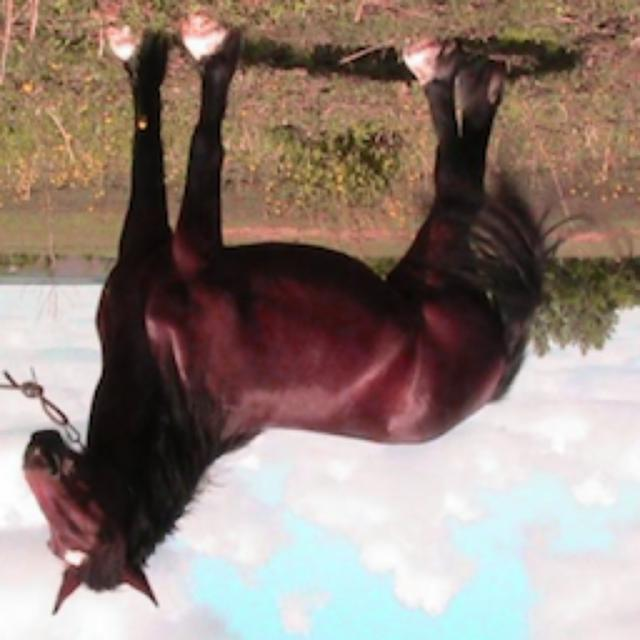Horse: (12, 12, 582, 620)
